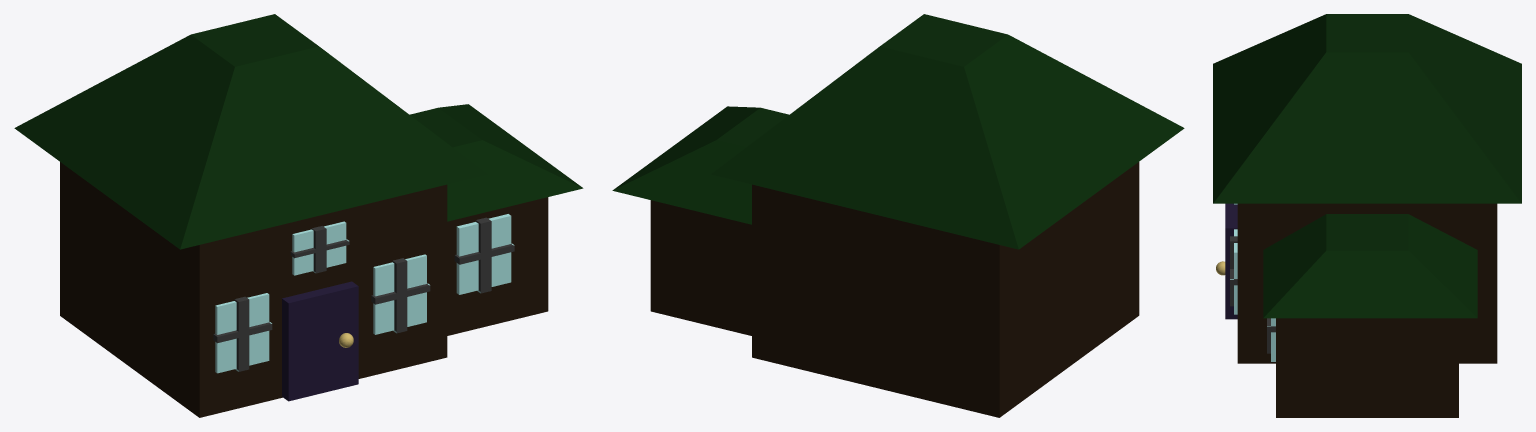
The model's file is PlayerHouse.fbx.
The picture shows the model from 3 angles, left to right: view 1: azimuth 30°, elevation 25°; view 2: azimuth 150°, elevation 25°; view 3: azimuth 270°, elevation 25°; orthographic projection. The views are drawn at different scales.
Visible parts, largest first — view 1: Roof, Building, Roof.001, Bumpout, Dorr, Window.003, Window.001, Window, Window.002; view 2: Building, Roof, Bumpout, Roof.001; view 3: Roof, Roof.001, Bumpout, Building, Dorr, Window, Window.003.
Part boxes in pixels (x1=…): Roof: x1=14, y1=14, x2=487, y2=249; Building: x1=60, y1=162, x2=447, y2=417; Roof.001: x1=410, y1=104, x2=583, y2=221; Bumpout: x1=447, y1=197, x2=548, y2=335; Dorr: x1=282, y1=281, x2=358, y2=401; Window.003: x1=454, y1=214, x2=514, y2=294; Window.001: x1=213, y1=293, x2=272, y2=373; Window: x1=371, y1=254, x2=430, y2=334; Window.002: x1=290, y1=221, x2=349, y2=275; Building: x1=752, y1=162, x2=1139, y2=417; Roof: x1=711, y1=14, x2=1184, y2=249; Bumpout: x1=650, y1=200, x2=751, y2=335; Roof.001: x1=612, y1=106, x2=788, y2=224; Roof: x1=1213, y1=14, x2=1521, y2=203; Roof.001: x1=1263, y1=214, x2=1477, y2=318; Bumpout: x1=1276, y1=318, x2=1458, y2=417; Building: x1=1237, y1=203, x2=1497, y2=363; Dorr: x1=1225, y1=203, x2=1237, y2=319; Window: x1=1230, y1=229, x2=1237, y2=314; Window.003: x1=1267, y1=318, x2=1275, y2=361.
Bounding box in the file's own units: 1659 × 1089 × 1107.
